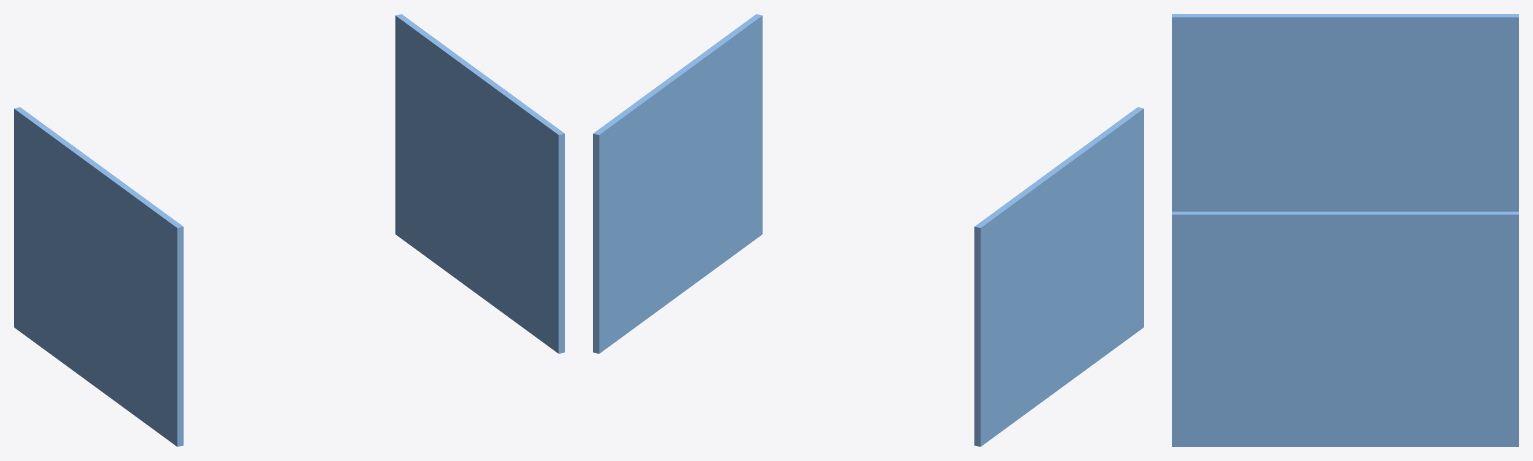
File: wall.obj
3 renders of one model, left to right at view 1: azimuth 30°, elevation 25°; view 2: azimuth 150°, elevation 25°; view 3: azimuth 270°, elevation 25°, orthographic. The views are drawn at different scales.
Size of the model in its own units: 12.6 by 6.8 by 9.2.
1 material, 1 textured.
